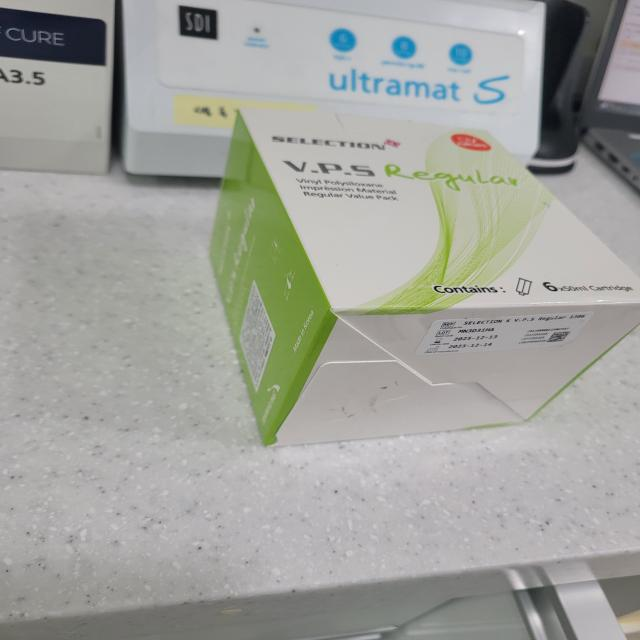impression: (191, 88, 640, 483)
